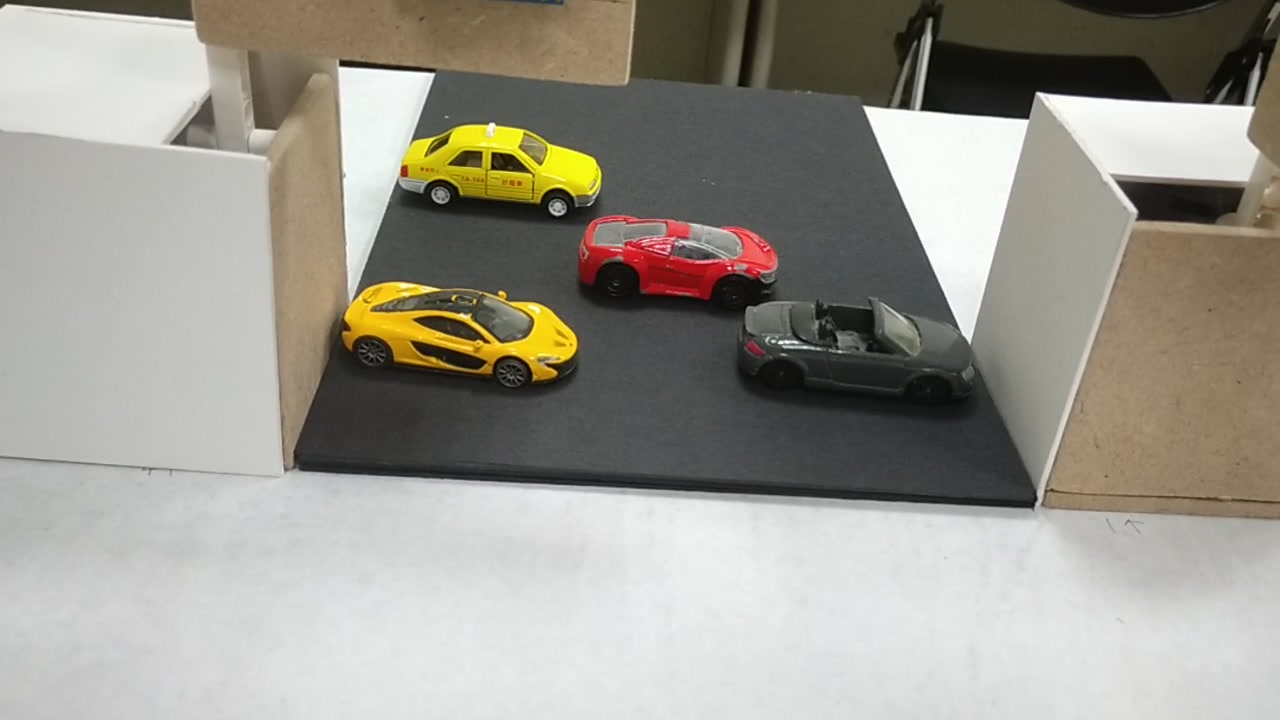car: (727, 296, 977, 418), (339, 282, 578, 393), (575, 215, 783, 311), (397, 129, 601, 224)
